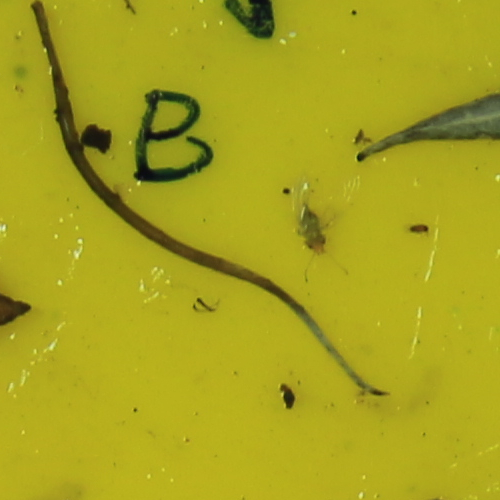Glycaspis: (295, 198, 326, 257)
